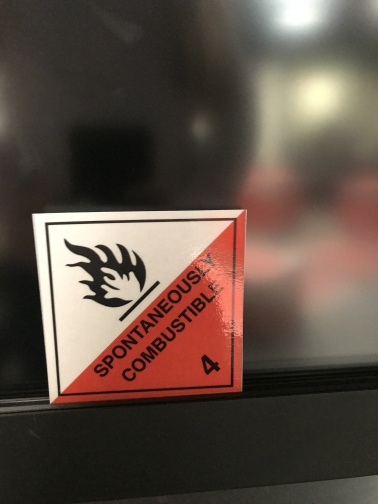SpontaneouslyCombustible: (31, 209, 248, 405)
